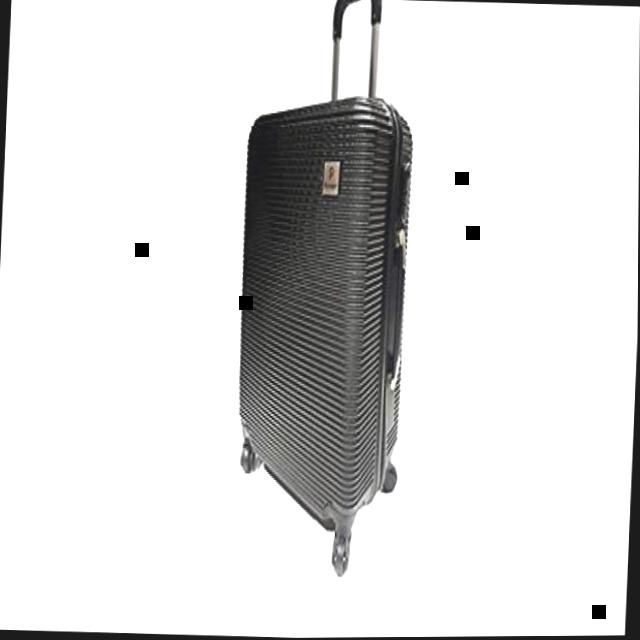luggage: (226, 82, 418, 539)
